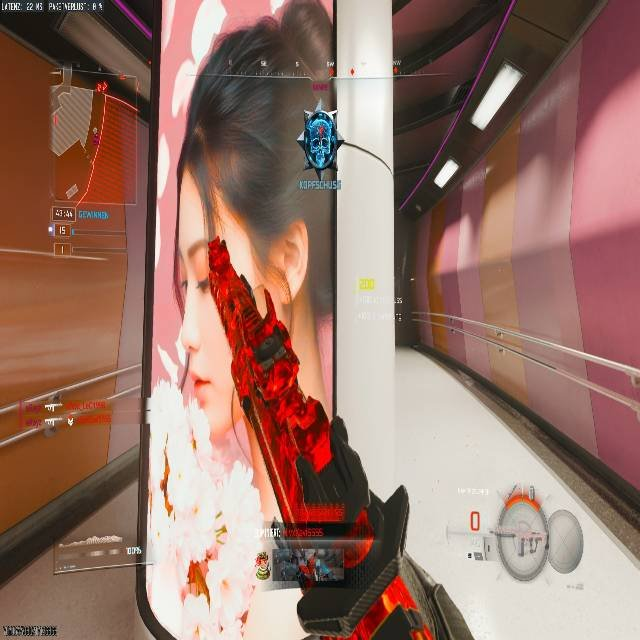player: (299, 103, 341, 174)
